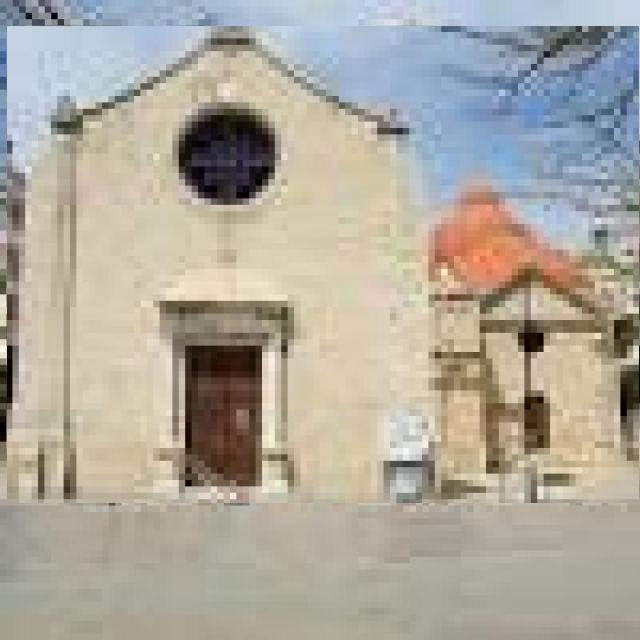Agia Aikaterini: (8, 27, 640, 504)
